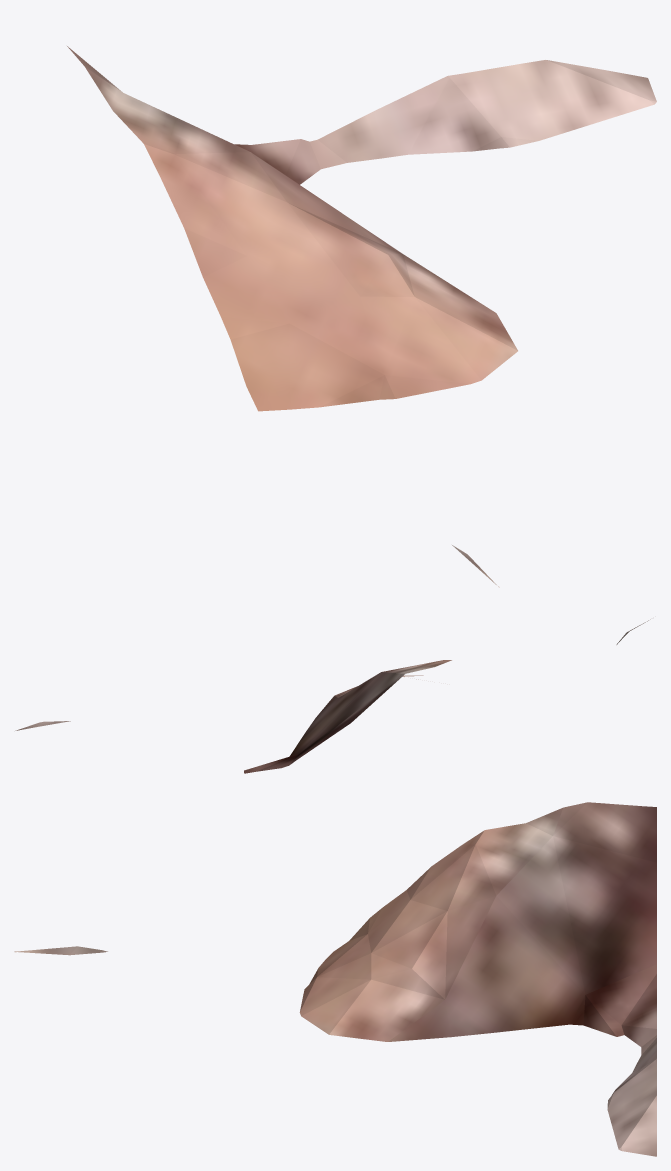
3 views of the same model, one above another, from view 1: azimuth 30°, elevation 25°; view 2: azimuth 150°, elevation 25°; view 3: azimuth 270°, elevation 25° (orthographic). The views are drawn at different scales.
Size of the model in its own units: 0.2506 by 0.0853 by 0.3323.
Materials: 1 (1 with a texture image).
